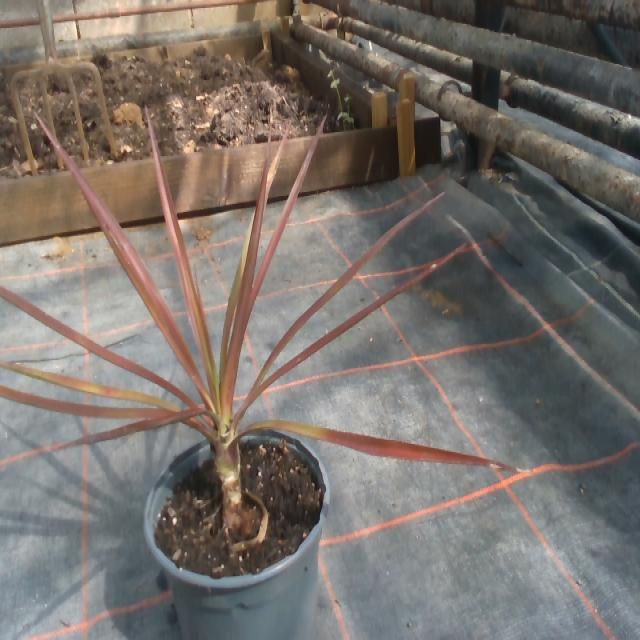Yucca-aloifolia: (242, 203, 428, 408), (45, 127, 194, 373), (0, 285, 194, 405), (257, 271, 426, 392), (150, 121, 218, 408), (251, 120, 324, 307), (244, 420, 519, 469), (222, 161, 268, 404), (0, 360, 178, 409), (1, 385, 178, 417), (55, 412, 199, 448), (221, 219, 252, 355)
